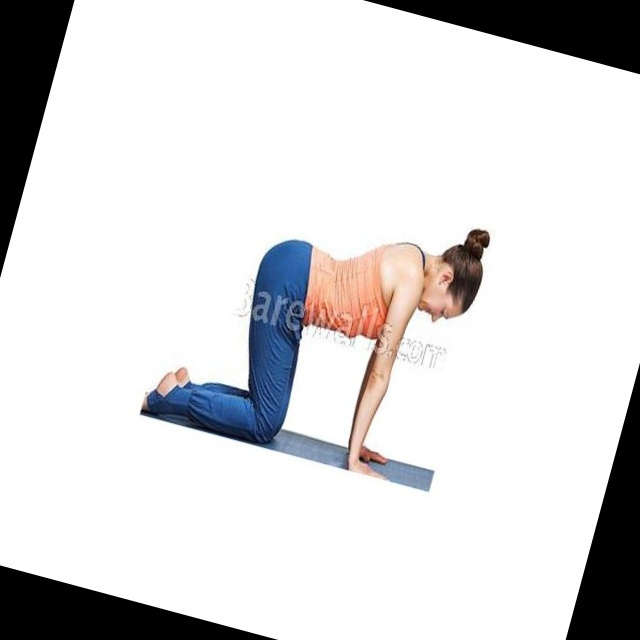Cow_Pose: (143, 240, 485, 485)
